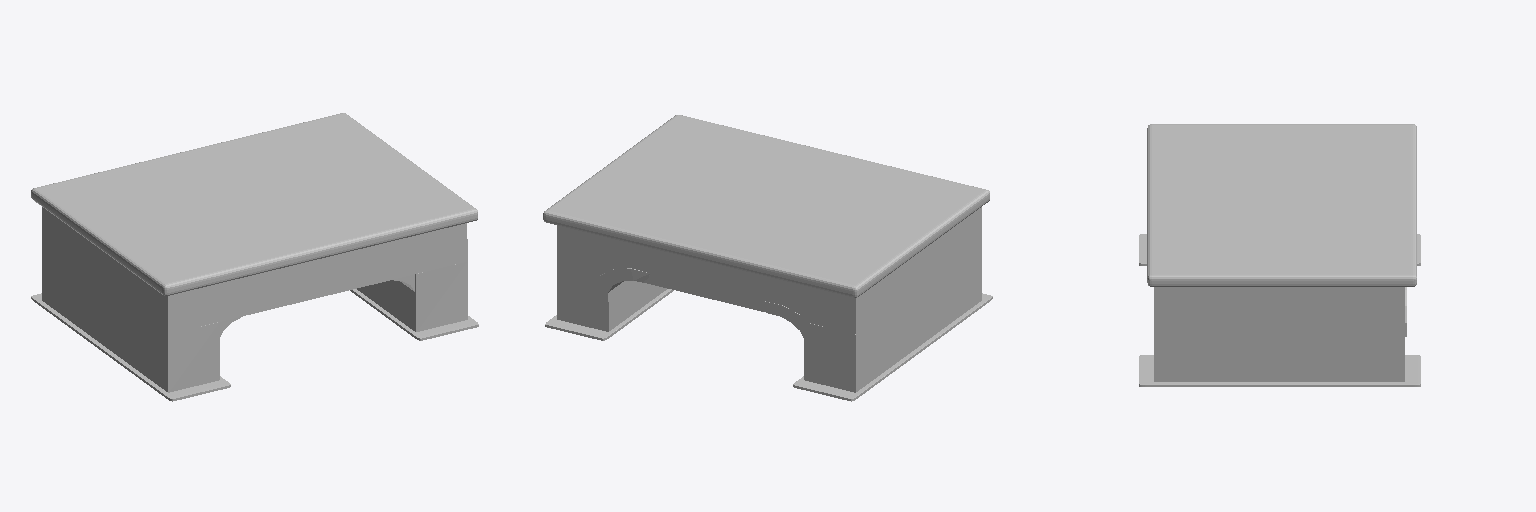
The model's file is bridge2.obj.
3 views of the same model, side by side, from view 1: azimuth 30°, elevation 25°; view 2: azimuth 150°, elevation 25°; view 3: azimuth 270°, elevation 25° (orthographic).
Parts seen in each view (by area): view 1: Cube.005_Cube.006, Cube.003_Cube.004, Cube_Cube.001, Cube.001_Cube.002; view 2: Cube.005_Cube.006, Cube.003_Cube.004, Cube_Cube.001, Cube.001_Cube.002; view 3: Cube.005_Cube.006, Cube.003_Cube.004, Cube.001_Cube.002.
Boxes of the visible parts, x1=… form: Cube.005_Cube.006: x1=31, y1=113, x2=477, y2=295; Cube.003_Cube.004: x1=42, y1=207, x2=467, y2=392; Cube_Cube.001: x1=31, y1=293, x2=230, y2=401; Cube.001_Cube.002: x1=350, y1=289, x2=478, y2=340; Cube.005_Cube.006: x1=543, y1=115, x2=989, y2=297; Cube.003_Cube.004: x1=557, y1=207, x2=981, y2=392; Cube_Cube.001: x1=793, y1=293, x2=992, y2=401; Cube.001_Cube.002: x1=545, y1=289, x2=673, y2=340; Cube.005_Cube.006: x1=1147, y1=124, x2=1416, y2=286; Cube.003_Cube.004: x1=1154, y1=287, x2=1406, y2=381; Cube.001_Cube.002: x1=1139, y1=355, x2=1420, y2=386.
Size of the model in its own units: 56.43 by 19.31 by 43.84.